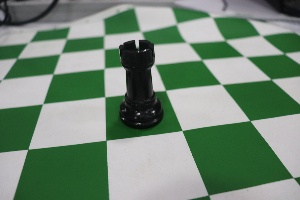black_rook: (102, 25, 171, 137)
